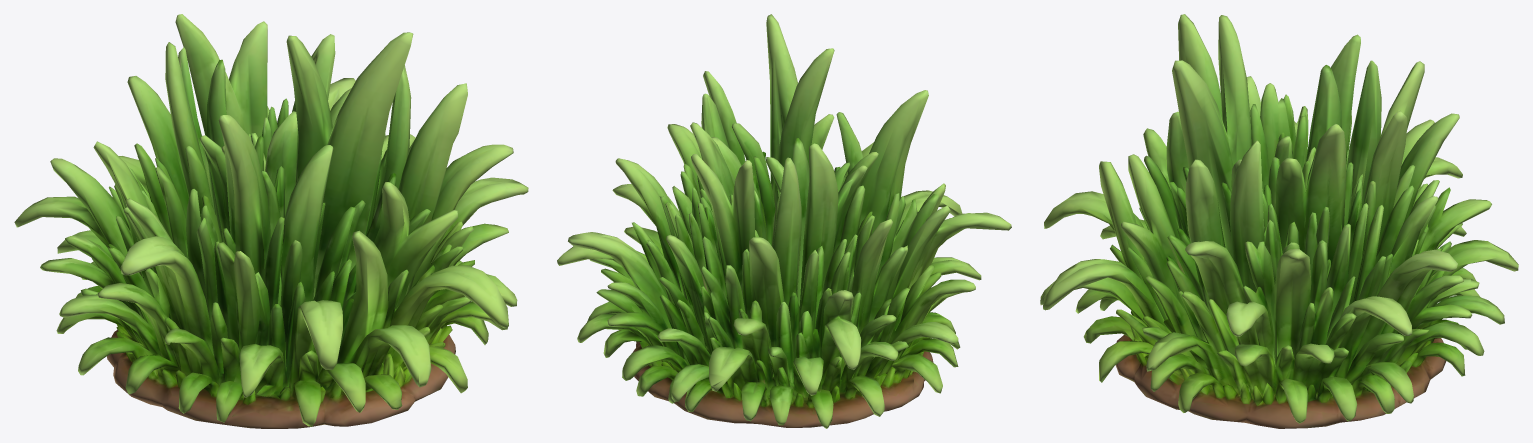
Rendered from grass.glb.
3 renders of one model, left to right at view 1: azimuth 30°, elevation 25°; view 2: azimuth 150°, elevation 25°; view 3: azimuth 270°, elevation 25°, orthographic. The views are drawn at different scales.
Visible parts, largest first — view 1: node_0; view 2: node_0; view 3: node_0.
Part boxes in pixels (left/top/right/bottom): node_0: left=14, top=14, right=528, bottom=428; node_0: left=557, top=14, right=1011, bottom=428; node_0: left=1040, top=14, right=1518, bottom=428.
Size of the model in its own units: 1.03 by 0.7923 by 1.04.
1 material, 1 textured.
